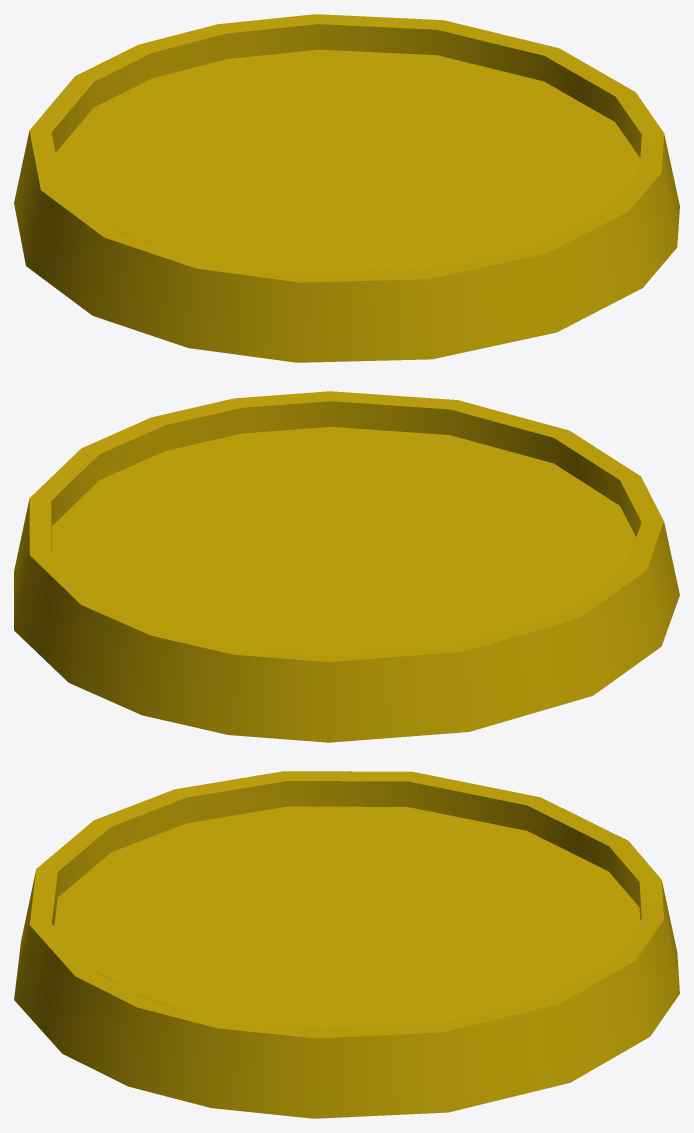
The model's file is original-12.obj.
The picture shows the model from 3 angles, top to bottom: view 1: azimuth 30°, elevation 25°; view 2: azimuth 150°, elevation 25°; view 3: azimuth 270°, elevation 25°; orthographic projection.
Parts seen in each view (by area): view 1: group_4/ID50#ID50; view 2: group_4/ID50#ID50; view 3: group_4/ID50#ID50.
Boxes of the visible parts, bbox=[...] form: group_4/ID50#ID50: bbox=[14, 14, 679, 362]; group_4/ID50#ID50: bbox=[14, 391, 679, 742]; group_4/ID50#ID50: bbox=[14, 771, 679, 1118].
Bounding box in the file's own units: 0.7275 × 0.0894 × 0.7303.
